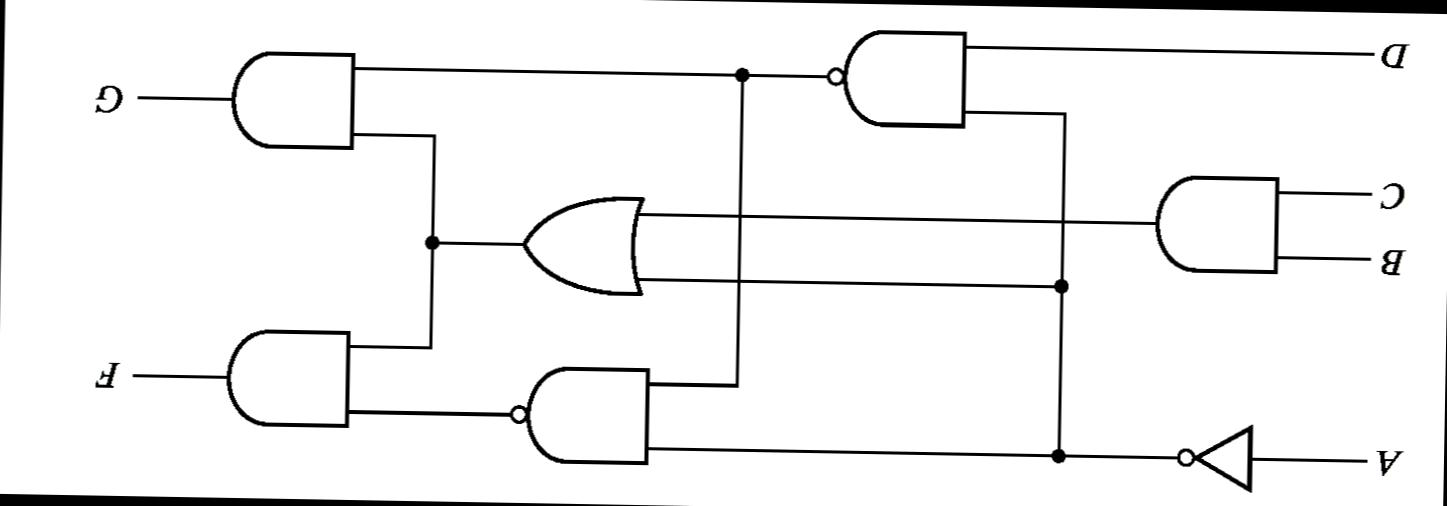and: (198, 27, 390, 180), (1126, 150, 1323, 296), (203, 298, 379, 458)
nand: (810, 19, 1007, 147), (493, 350, 678, 476)
not: (1130, 403, 1288, 502)
or: (482, 172, 669, 313)
